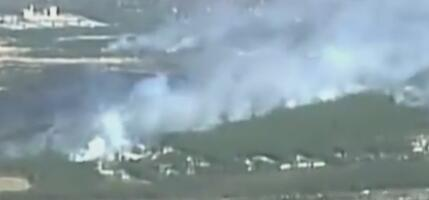yanwu: (1, 1, 429, 164)
